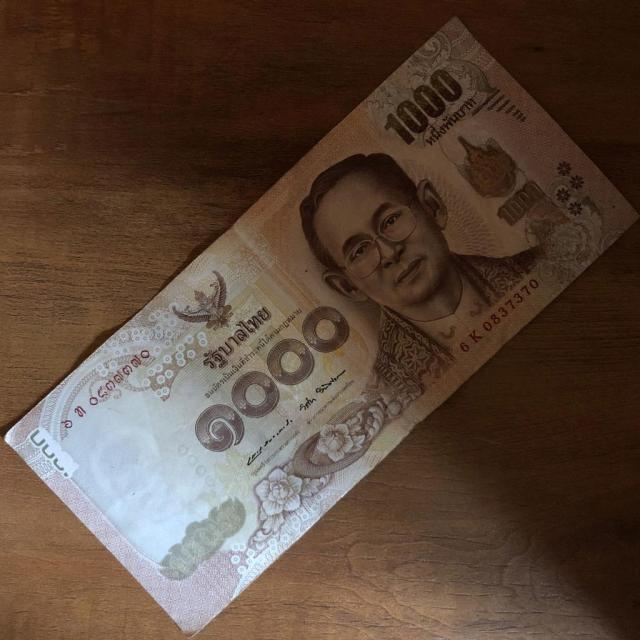THAI1000: (5, 16, 639, 636)
